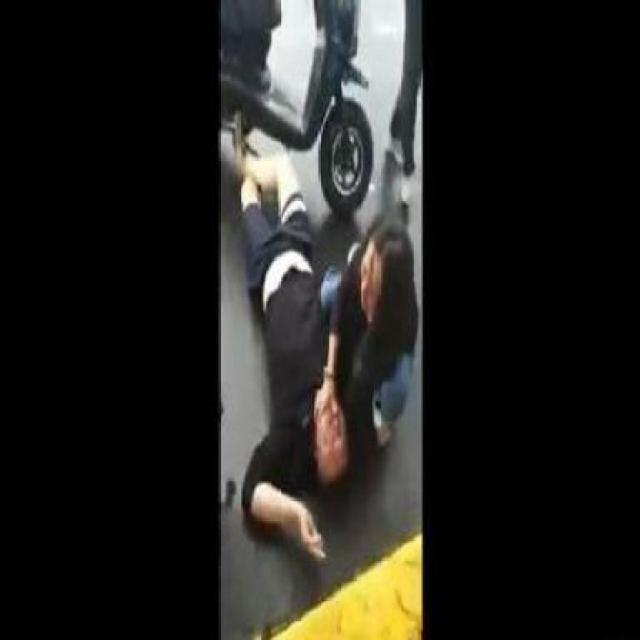fall: (224, 124, 365, 567)
